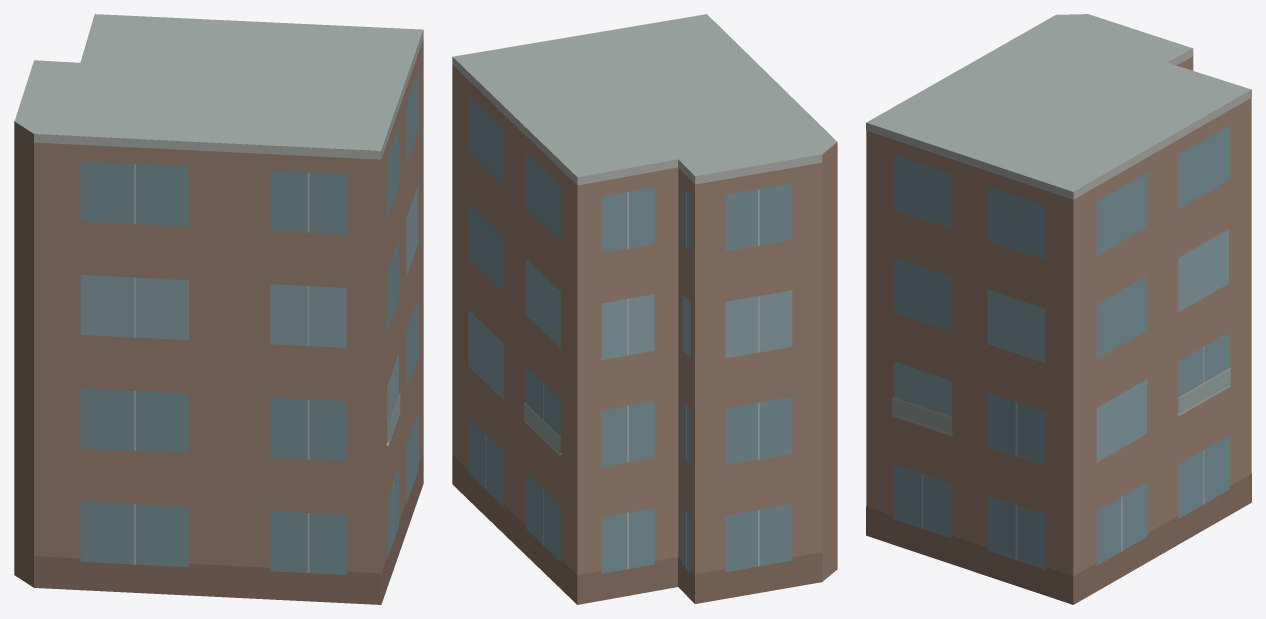
The model's file is survey-upis-32809993.glb.
The picture shows the model from 3 angles, left to right: view 1: azimuth 30°, elevation 25°; view 2: azimuth 150°, elevation 25°; view 3: azimuth 270°, elevation 25°; orthographic projection. The views are drawn at different scales.
Visible parts, largest first — view 1: survey-upis-32809993.tmp; view 2: survey-upis-32809993.tmp; view 3: survey-upis-32809993.tmp.
Boxes of the visible parts, left/top/right/bottom form: survey-upis-32809993.tmp: left=14, top=14, right=423, bottom=604; survey-upis-32809993.tmp: left=452, top=14, right=837, bottom=604; survey-upis-32809993.tmp: left=866, top=14, right=1251, bottom=604.
Bounding box in the file's own units: 11.84 × 12.8 × 10.84.
